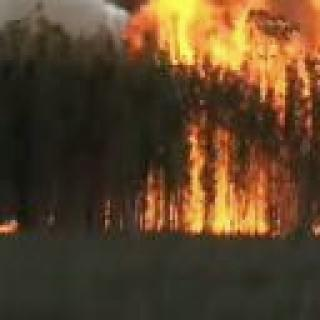fire: (144, 0, 320, 237), (1, 214, 23, 233)
